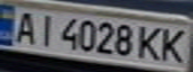0: (75, 17, 96, 54)
2: (93, 19, 118, 56)
4: (54, 16, 81, 51)
8: (112, 21, 139, 59)
A: (9, 9, 42, 45)
I: (30, 12, 60, 47)
K: (157, 25, 193, 65), (136, 25, 166, 62)
